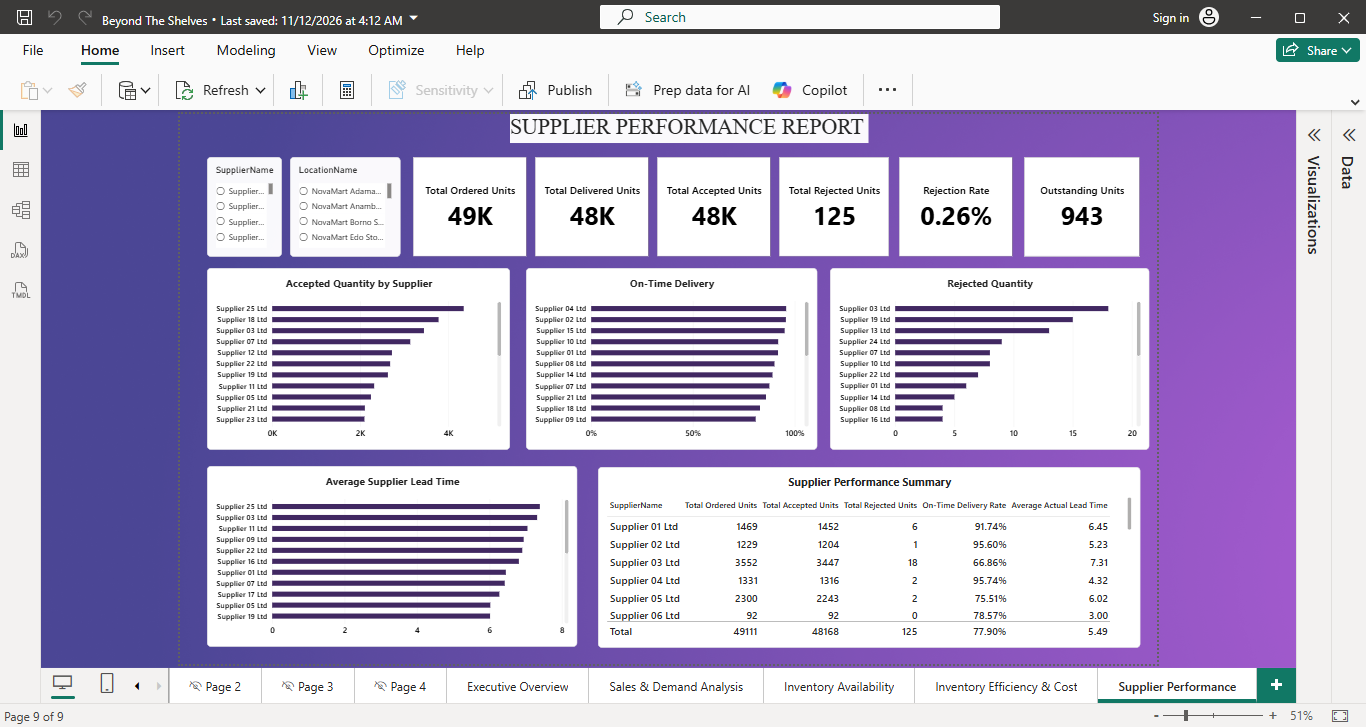

This screenshot's page, from the dashboard's own definition file:
{"tool":"powerbi","page":{"name":"Supplier Performance","canvas":[1920,1080],"ordinal":8},"visuals":[{"type":"textbox","box":[648.5,0,703.8,57.4],"z":1},{"type":"cardVisual","fields":{"Data":["FactPurchaseOrderLine.Total Ordered Units"]},"box":[457.1,85,223.2,195.6],"z":2},{"type":"cardVisual","fields":{"Data":["FactPurchaseOrderLine.Total Delivered Units"]},"box":[697.3,85,223.2,195.6],"z":3},{"type":"cardVisual","fields":{"Data":["DimCategory.Total Accepted Units","DimCategory.Total Accepted Units"]},"box":[937.6,85,223.2,195.6],"z":4},{"type":"cardVisual","fields":{"Data":["DimCategory.Total Rejected Units"]},"box":[1175.7,85,216.9,195.6],"z":5},{"type":"cardVisual","fields":{"Data":["DimCategory.Rejection Rate"]},"box":[1411.7,85,223.2,195.6],"z":6},{"type":"cardVisual","fields":{"Data":["DimCategory.Outstanding Units"]},"box":[1658.3,85,227.5,195.6],"z":7},{"type":"clusteredBarChart","title":"Accepted Quantity by Supplier","fields":{"Category":["DimSupplier.SupplierName"],"Y":["DimCategory.Total Accepted Units"]},"box":[53.1,301.9,595.3,357.2],"z":8},{"type":"clusteredBarChart","title":"On-Time Delivery ","fields":{"Category":["DimSupplier.SupplierName"],"Y":["DimCategory.On-Time Delivery Rate"]},"box":[680.3,301.9,571.9,357.2],"z":9},{"type":"clusteredBarChart","title":"Rejected Quantity","fields":{"Category":["DimSupplier.SupplierName"],"Y":["DimCategory.Total Rejected Units"]},"box":[1275.6,301.9,627,357],"z":10},{"type":"clusteredBarChart","title":"Average Supplier Lead Time","fields":{"Category":["DimSupplier.SupplierName"],"Y":["FactPurchaseOrderLine.Average Actual Lead Time"]},"box":[53.1,690.9,727.1,355],"z":11},{"type":"tableEx","title":"Supplier Performance Summary","fields":{"Values":["DimSupplier.SupplierName","FactPurchaseOrderLine.Total Ordered Units","DimCategory.Total Accepted Units","DimCategory.Total Rejected Units","DimCategory.On-Time Delivery Rate","FactPurchaseOrderLine.Average Actual Lead Time"]},"box":[820.6,693.1,1065.1,355],"z":12},{"type":"listSlicer","fields":{"Values":["DimSupplier.SupplierName"]},"box":[53.1,85,146.7,195.6],"z":13},{"type":"listSlicer","fields":{"Values":["DimLocation.LocationName"]},"box":[216.9,85,216.9,195.6],"z":14}]}

Visuals, with their boxes on the page's 1920x1080 design canvas (x1, y1, x2, y2). These are canvas units, not pixel positions in the 1366x727 screenshot, which may show the page scaled, cropped or inside an application window:
textbox: BBox(648, 0, 1352, 57)
cardVisual - FactPurchaseOrderLine.Total Ordered Units: BBox(457, 85, 680, 281)
cardVisual - FactPurchaseOrderLine.Total Delivered Units: BBox(697, 85, 920, 281)
cardVisual - DimCategory.Total Accepted Units x DimCategory.Total Accepted Units: BBox(938, 85, 1161, 281)
cardVisual - DimCategory.Total Rejected Units: BBox(1176, 85, 1393, 281)
cardVisual - DimCategory.Rejection Rate: BBox(1412, 85, 1635, 281)
cardVisual - DimCategory.Outstanding Units: BBox(1658, 85, 1886, 281)
"Accepted Quantity by Supplier" clusteredBarChart: BBox(53, 302, 648, 659)
"On-Time Delivery " clusteredBarChart: BBox(680, 302, 1252, 659)
"Rejected Quantity" clusteredBarChart: BBox(1276, 302, 1903, 659)
"Average Supplier Lead Time" clusteredBarChart: BBox(53, 691, 780, 1046)
"Supplier Performance Summary" tableEx: BBox(821, 693, 1886, 1048)
listSlicer - DimSupplier.SupplierName: BBox(53, 85, 200, 281)
listSlicer - DimLocation.LocationName: BBox(217, 85, 434, 281)
